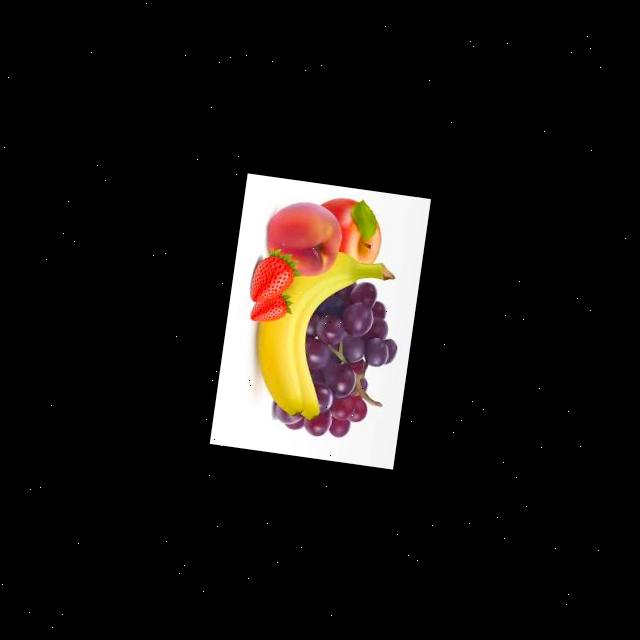grape: (272, 270, 407, 446)
